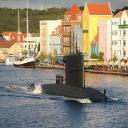submarine: (27, 28, 117, 104)
